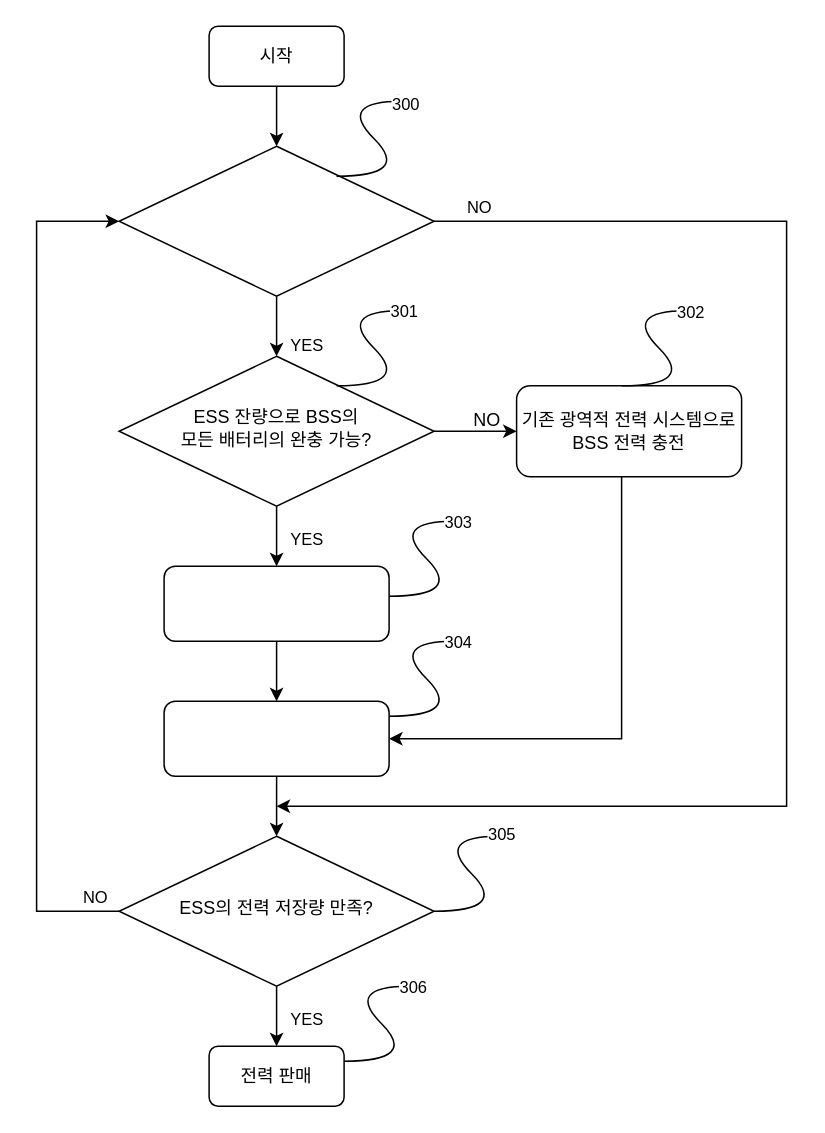
Image size: 825x1133. Some labels were removed from this diagram. Here are the shapes that lost their labels. From the top down, the centre of each, then its label:
At point 276,220: "BSS에 배터리 교환 발생?".
At point 276,603: "ESS로 BSS에 전력 충전".
At point 276,738: "타이머 인터럽트 시간 대기".
